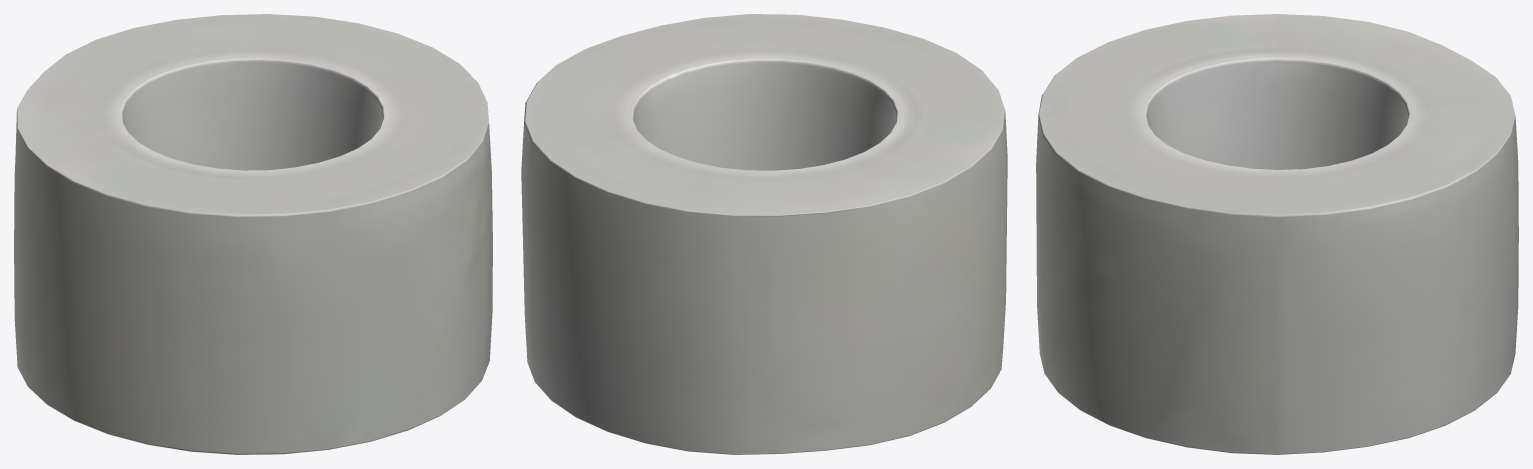
Rendered from cc0_medical_tape.glb.
3 renders of one model, left to right at view 1: azimuth 30°, elevation 25°; view 2: azimuth 150°, elevation 25°; view 3: azimuth 270°, elevation 25°, orthographic.
Parts seen in each view (by area): view 1: medical_tape; view 2: medical_tape; view 3: medical_tape.
Part boxes in pixels (x1,y1,x2,y2): medical_tape: [14, 14, 492, 454]; medical_tape: [521, 14, 1007, 454]; medical_tape: [1036, 14, 1518, 454].
Bounding box in the file's own units: 0.0453 × 0.025 × 0.0452.
Materials: 1 (1 with a texture image).
